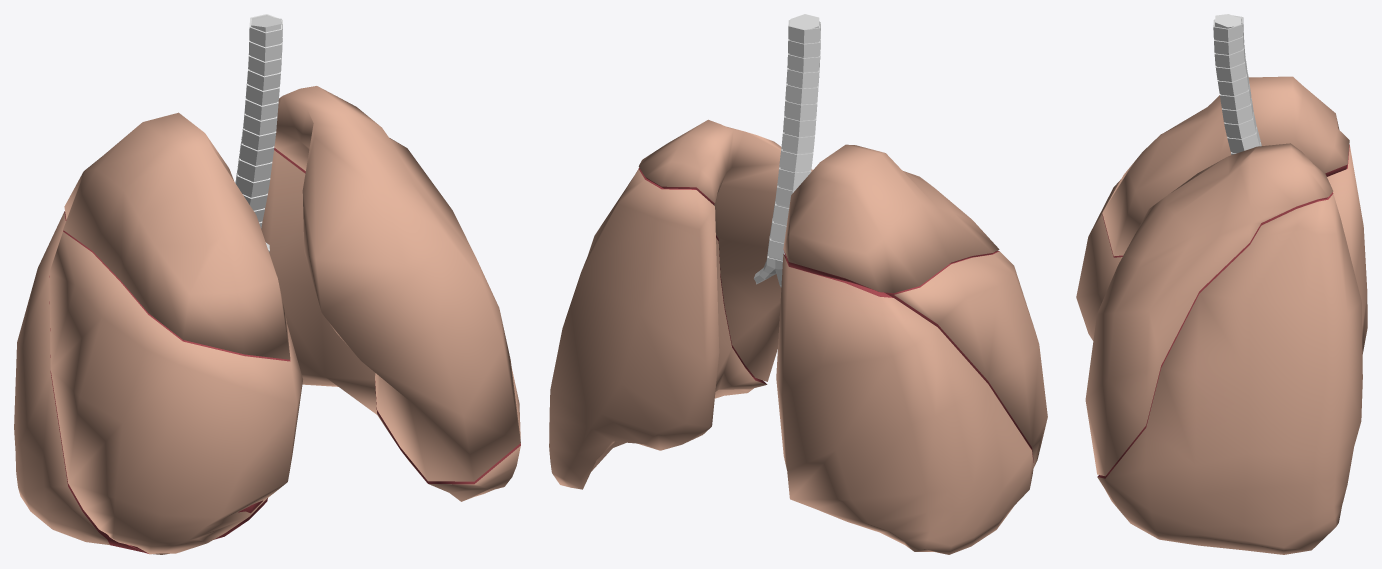
Rendered from lungs 1.0.fbx.
3 views of the same model, side by side, from view 1: azimuth 30°, elevation 25°; view 2: azimuth 150°, elevation 25°; view 3: azimuth 270°, elevation 25° (orthographic). The views are drawn at different scales.
Visible parts, largest first — view 1: L lung.002, R middle, R superior, L lung.001, R inferior, windpipe part; view 2: R inferior, L lung.001, R superior, L lung.002, R middle, windpipe part; view 3: L lung.001, L lung.002, R superior, windpipe part, R middle, R inferior.
Part boxes in pixels (<box>): L lung.002: <box>274,86,520,481</box>; R middle: <box>49,230,302,554</box>; R superior: <box>63,112,290,359</box>; L lung.001: <box>261,147,520,501</box>; R inferior: <box>14,211,267,554</box>; windpipe part: <box>235,14,282,251</box>; R inferior: <box>776,254,1033,554</box>; L lung.001: <box>549,167,767,489</box>; R superior: <box>783,144,999,293</box>; L lung.002: <box>638,119,812,381</box>; R middle: <box>884,251,1047,468</box>; windpipe part: <box>754,14,820,287</box>; L lung.001: <box>1097,192,1362,554</box>; L lung.002: <box>1085,143,1333,476</box>; R superior: <box>1102,76,1349,256</box>; windpipe part: <box>1213,14,1261,154</box>; R middle: <box>1076,179,1122,340</box>; R inferior: <box>1327,144,1367,353</box>.
Bounding box in the file's own units: 587 × 637 × 380.
